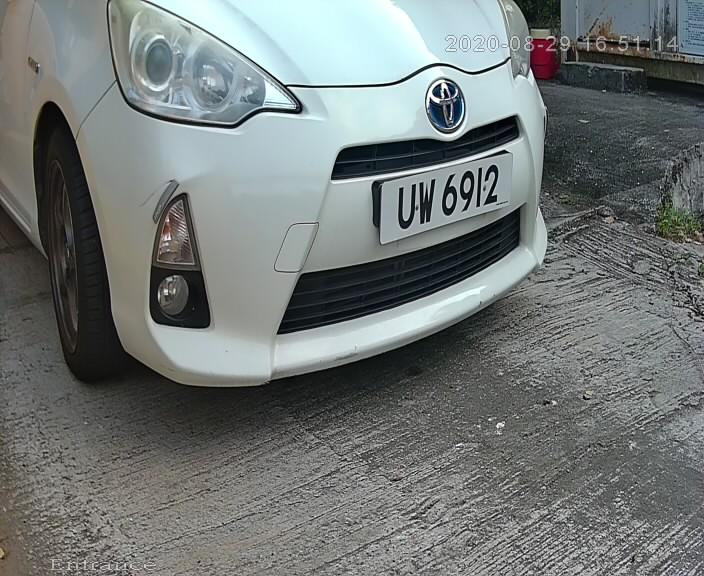License Plate: (353, 134, 528, 253)
